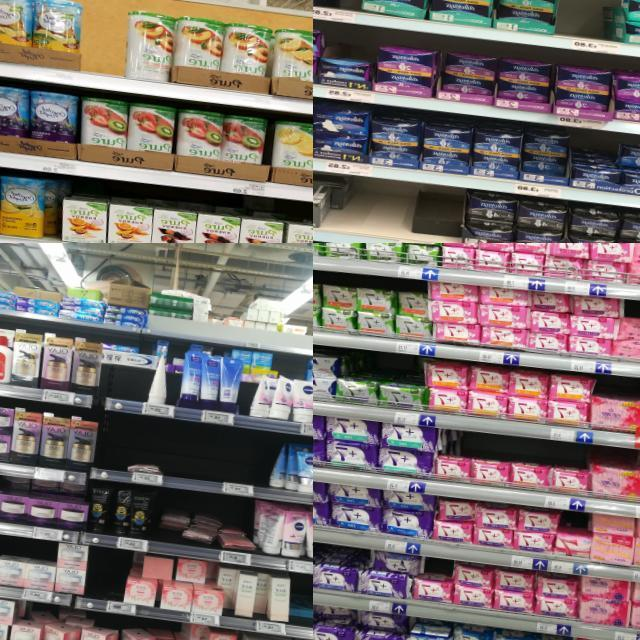Imprecise: (162, 513, 255, 548), (314, 609, 406, 640), (216, 566, 236, 618), (252, 572, 270, 622), (141, 554, 173, 580), (125, 461, 163, 473)
